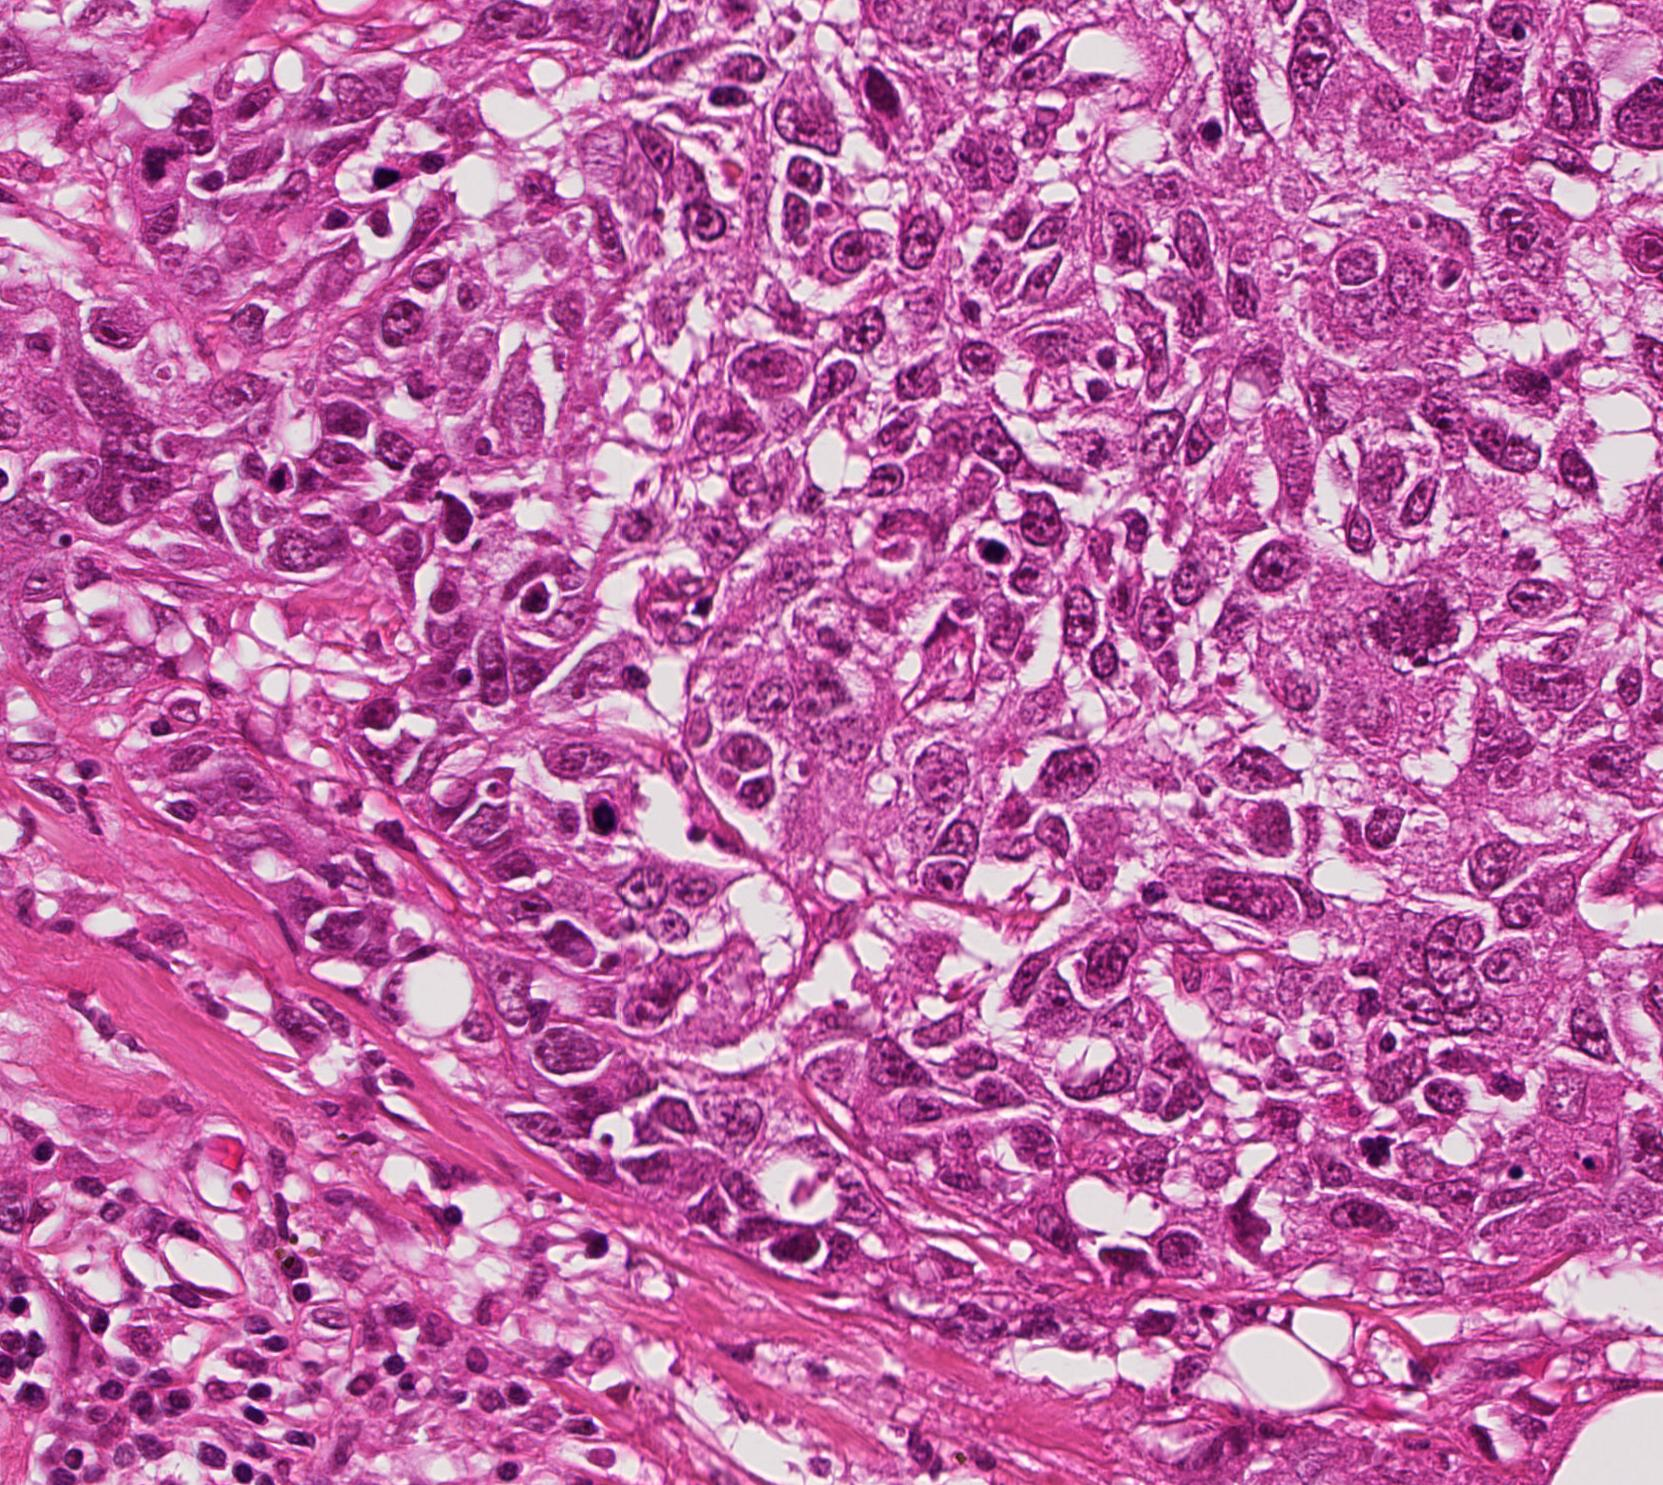mitosis: (129, 133, 189, 194)
